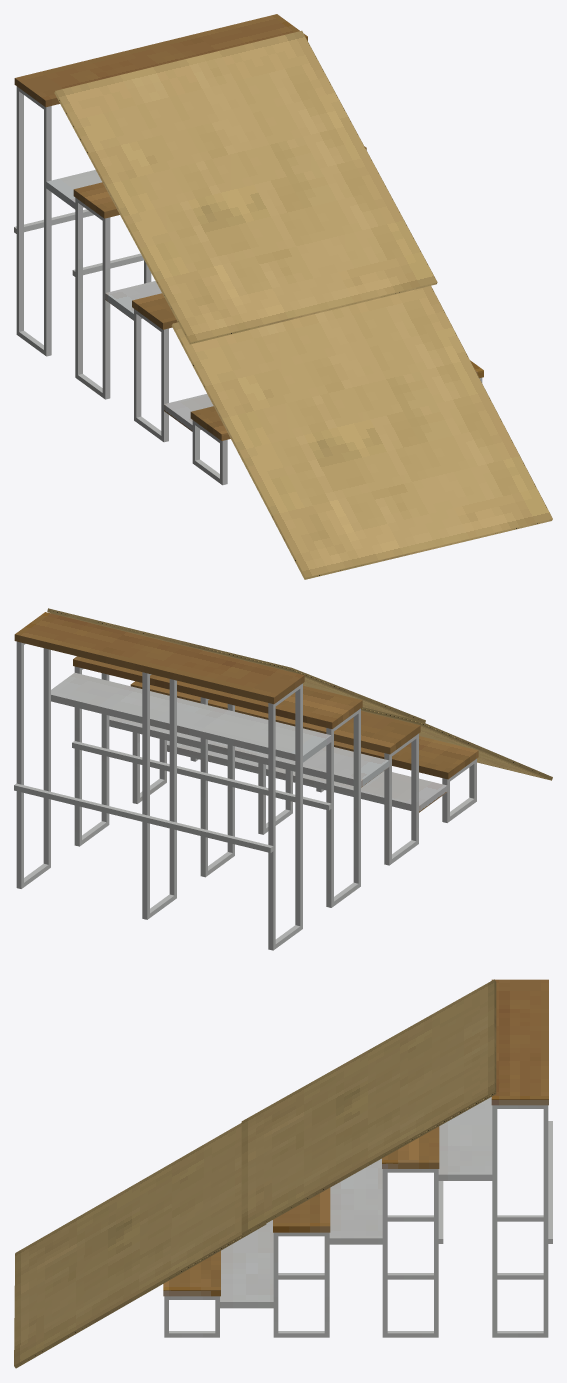
File: objects_un_base_grandstand02.gltf
3 views of the same model, one above another, from view 1: azimuth 30°, elevation 25°; view 2: azimuth 150°, elevation 25°; view 3: azimuth 270°, elevation 25° (orthographic). The views are drawn at different scales.
Parts seen in each view (by area): view 1: objects_un_base_grandstand02_model_mesh_shape:objects_un_bas (×2); view 2: objects_un_base_grandstand02_model_mesh_shape:objects_un_bas (×2); view 3: objects_un_base_grandstand02_model_mesh_shape:objects_un_bas (×2).
Part boxes in pixels (x1,y1,x2,y2): objects_un_base_grandstand02_model_mesh_shape:objects_un_bas (×2): (14, 14, 552, 579); objects_un_base_grandstand02_model_mesh_shape:objects_un_bas (×2): (14, 608, 552, 950); objects_un_base_grandstand02_model_mesh_shape:objects_un_bas (×2): (14, 979, 552, 1368).
Size of what is drawn, in the model's own units: 2.02 by 2.21 by 3.86.
Materials: 2 (2 with a texture image).
